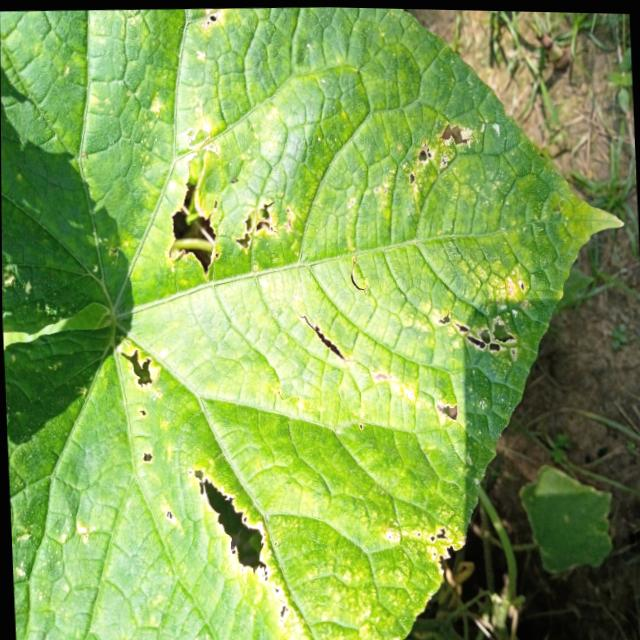Anthracnose: (157, 114, 301, 288), (185, 460, 293, 629), (395, 118, 483, 196), (433, 297, 522, 367), (117, 341, 164, 392), (431, 396, 470, 428)
